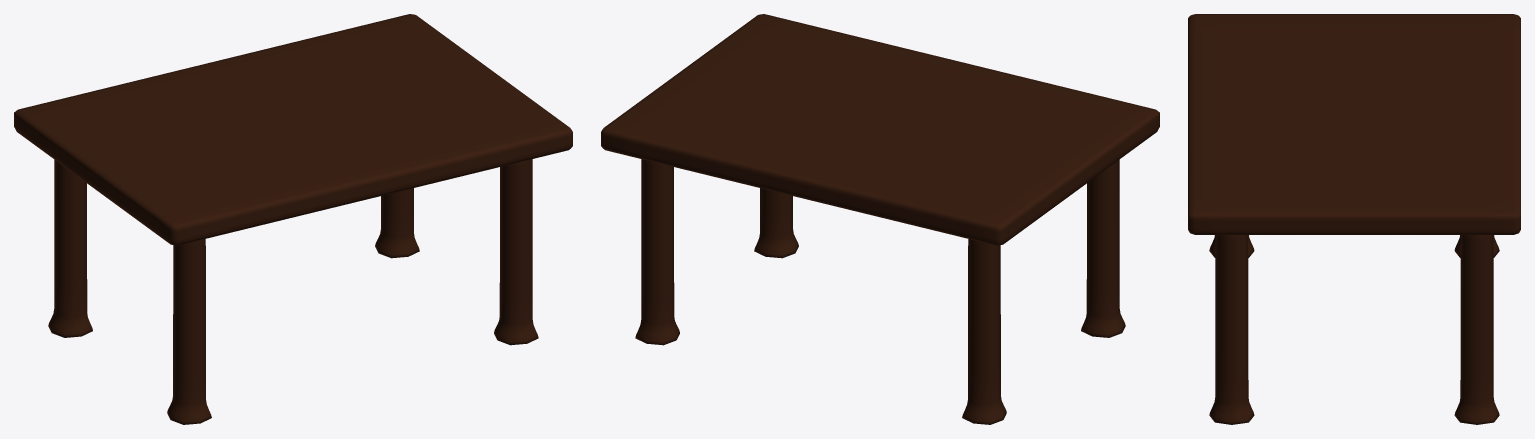
The model's file is table.fbx.
3 renders of one model, left to right at view 1: azimuth 30°, elevation 25°; view 2: azimuth 150°, elevation 25°; view 3: azimuth 270°, elevation 25°, orthographic. The views are drawn at different scales.
Visible parts, largest first — view 1: Cube; view 2: Cube; view 3: Cube.
Boxes of the visible parts, x1,y1,x2,y2 form: Cube: (14,14,572,424); Cube: (601,14,1159,424); Cube: (1188,14,1520,424).
Bounding box in the file's own units: 696 × 356 × 484.
